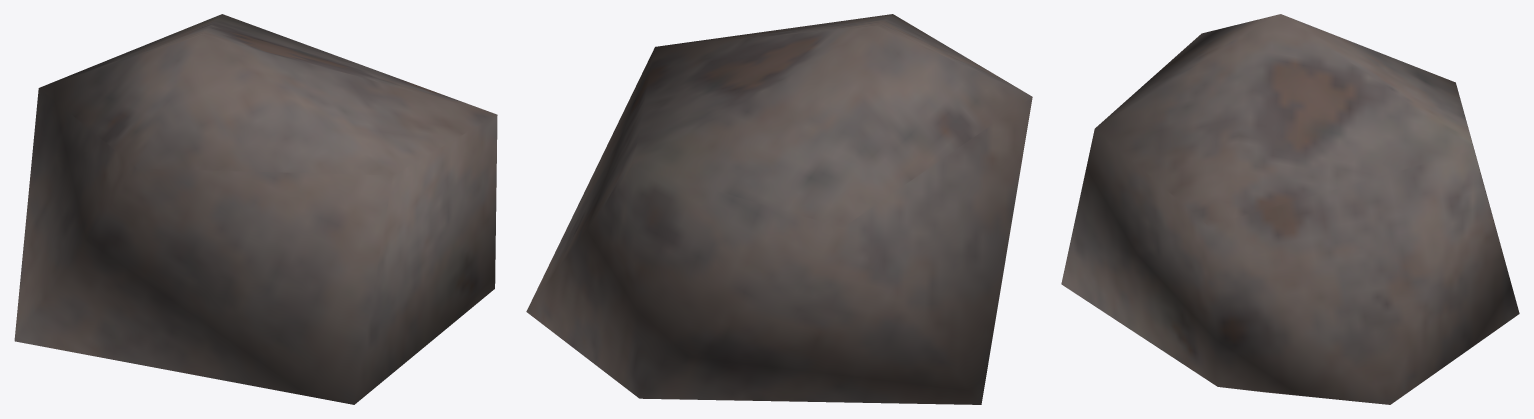
Rendered from SM_Pebble4.fbx.
3 views of the same model, side by side, from view 1: azimuth 30°, elevation 25°; view 2: azimuth 150°, elevation 25°; view 3: azimuth 270°, elevation 25° (orthographic). The views are drawn at different scales.
Visible parts, largest first — view 1: SM_Pebble4_LOD0; view 2: SM_Pebble4_LOD0; view 3: SM_Pebble4_LOD0.
Part boxes in pixels (x1,y1,x2,y2): SM_Pebble4_LOD0: (14, 14, 497, 404); SM_Pebble4_LOD0: (526, 14, 1032, 404); SM_Pebble4_LOD0: (1061, 14, 1519, 404).
Size of the model in its own units: 5.62 by 5.89 by 4.68.
Materials: 1 (1 with a texture image).
